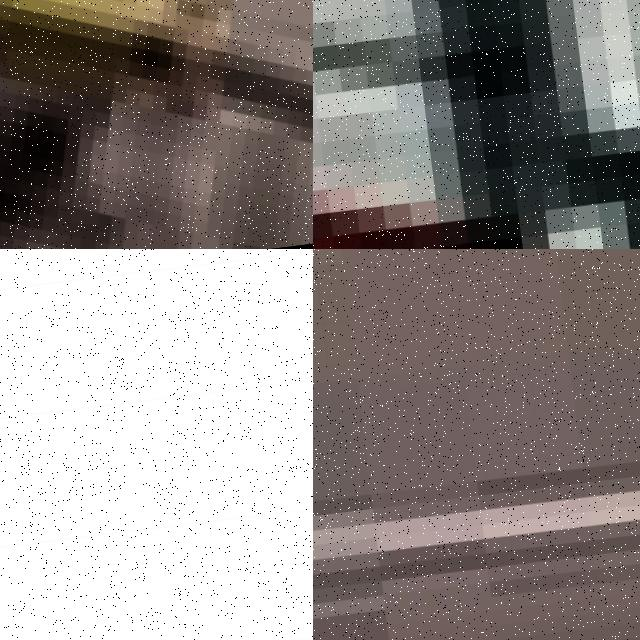drone: (0, 0, 313, 249)
